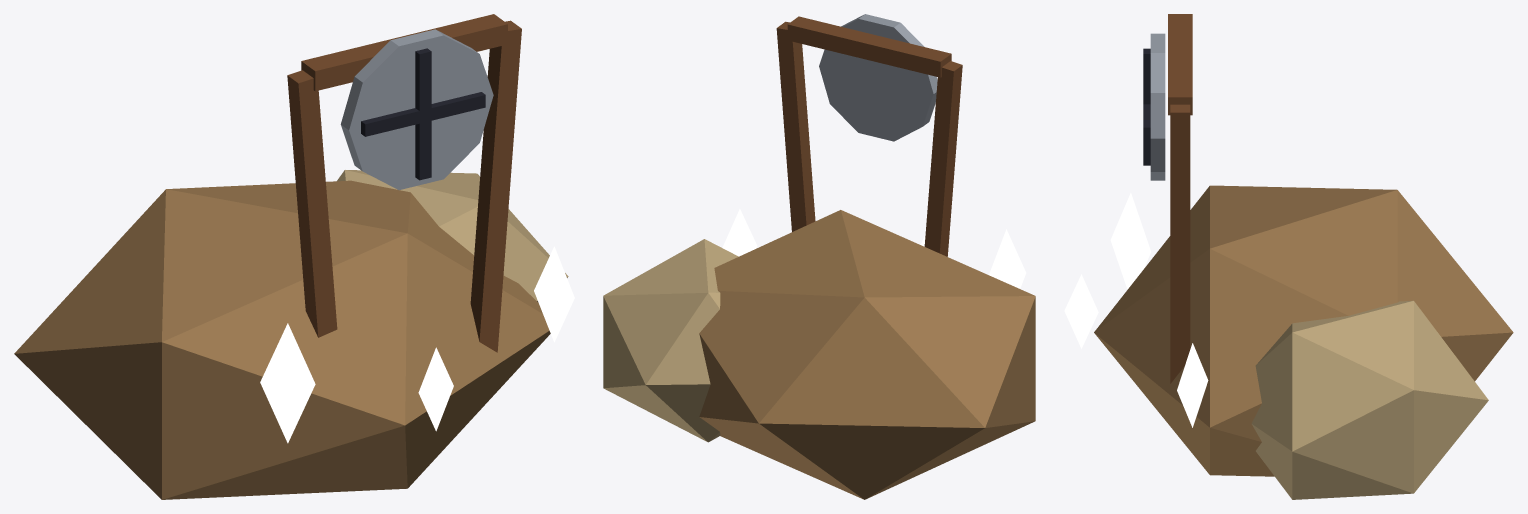
File: mine_t1.glb
3 renders of one model, left to right at view 1: azimuth 30°, elevation 25°; view 2: azimuth 150°, elevation 25°; view 3: azimuth 270°, elevation 25°, orthographic. The views are drawn at different scales.
Visible parts, largest first — view 1: body, part_rotor, glow; view 2: body, part_rotor, glow; view 3: body, glow, part_rotor.
Part boxes in pixels (left/top/right/bottom): body: left=14, top=14, right=568, bottom=499; part_rotor: left=340, top=29, right=493, bottom=190; glow: left=260, top=246, right=574, bottom=443; body: left=603, top=16, right=1035, bottom=499; part_rotor: left=819, top=14, right=937, bottom=141; glow: left=722, top=209, right=1026, bottom=288; body: left=1094, top=14, right=1513, bottom=499; glow: left=1064, top=193, right=1208, bottom=427; part_rotor: left=1143, top=33, right=1165, bottom=180.
Bounding box in the file's own units: 2.05 × 1.89 × 1.82.
